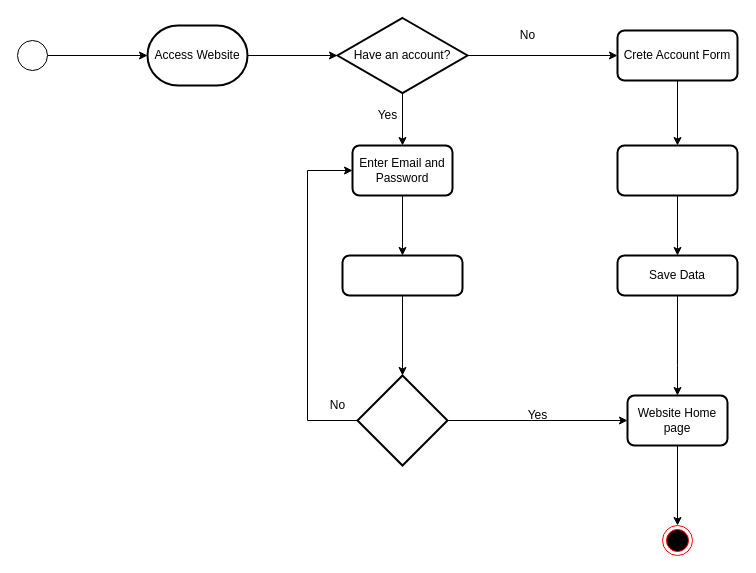
Image size: 756x573. Some labels were removed from this diagram. The shapes that lost their labels are listed below. From the top down, each one's centre as x and y in pixels, then its label:
At point (677, 170): "Enter Name,Email, Password,Gender".
At point (402, 275): "Validation".
At point (402, 420): "Validate?".
